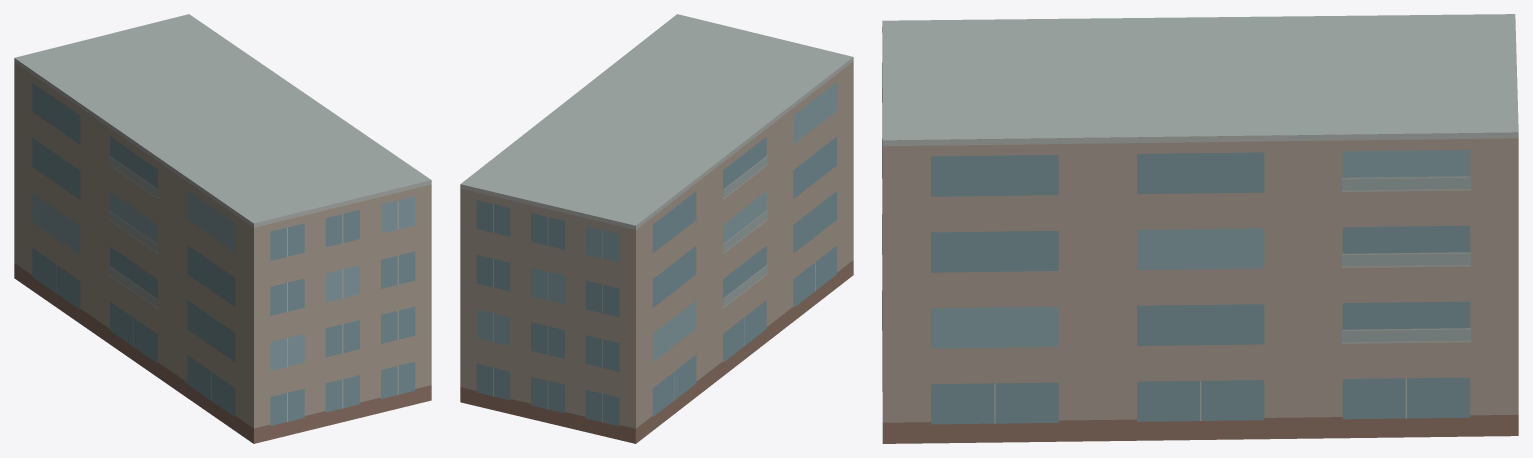
File: survey-upis-32962239.glb
The picture shows the model from 3 angles, left to right: view 1: azimuth 30°, elevation 25°; view 2: azimuth 150°, elevation 25°; view 3: azimuth 270°, elevation 25°; orthographic projection. The views are drawn at different scales.
Visible parts, largest first — view 1: survey-upis-32962239.tmp; view 2: survey-upis-32962239.tmp; view 3: survey-upis-32962239.tmp.
Part boxes in pixels (x1=…): survey-upis-32962239.tmp: x1=14, y1=14, x2=431, y2=443; survey-upis-32962239.tmp: x1=460, y1=14, x2=853, y2=443; survey-upis-32962239.tmp: x1=882, y1=14, x2=1518, y2=443.
Bounding box in the file's own units: 11.16 × 12.5 × 23.76.
